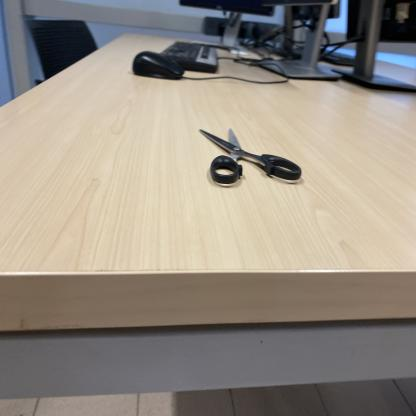scissors: (193, 127, 305, 188)
